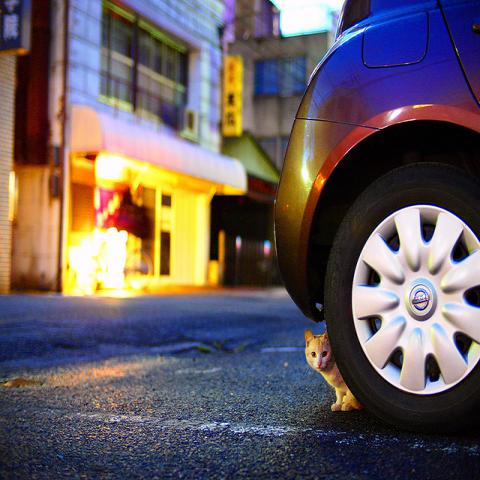car: (273, 1, 479, 440)
